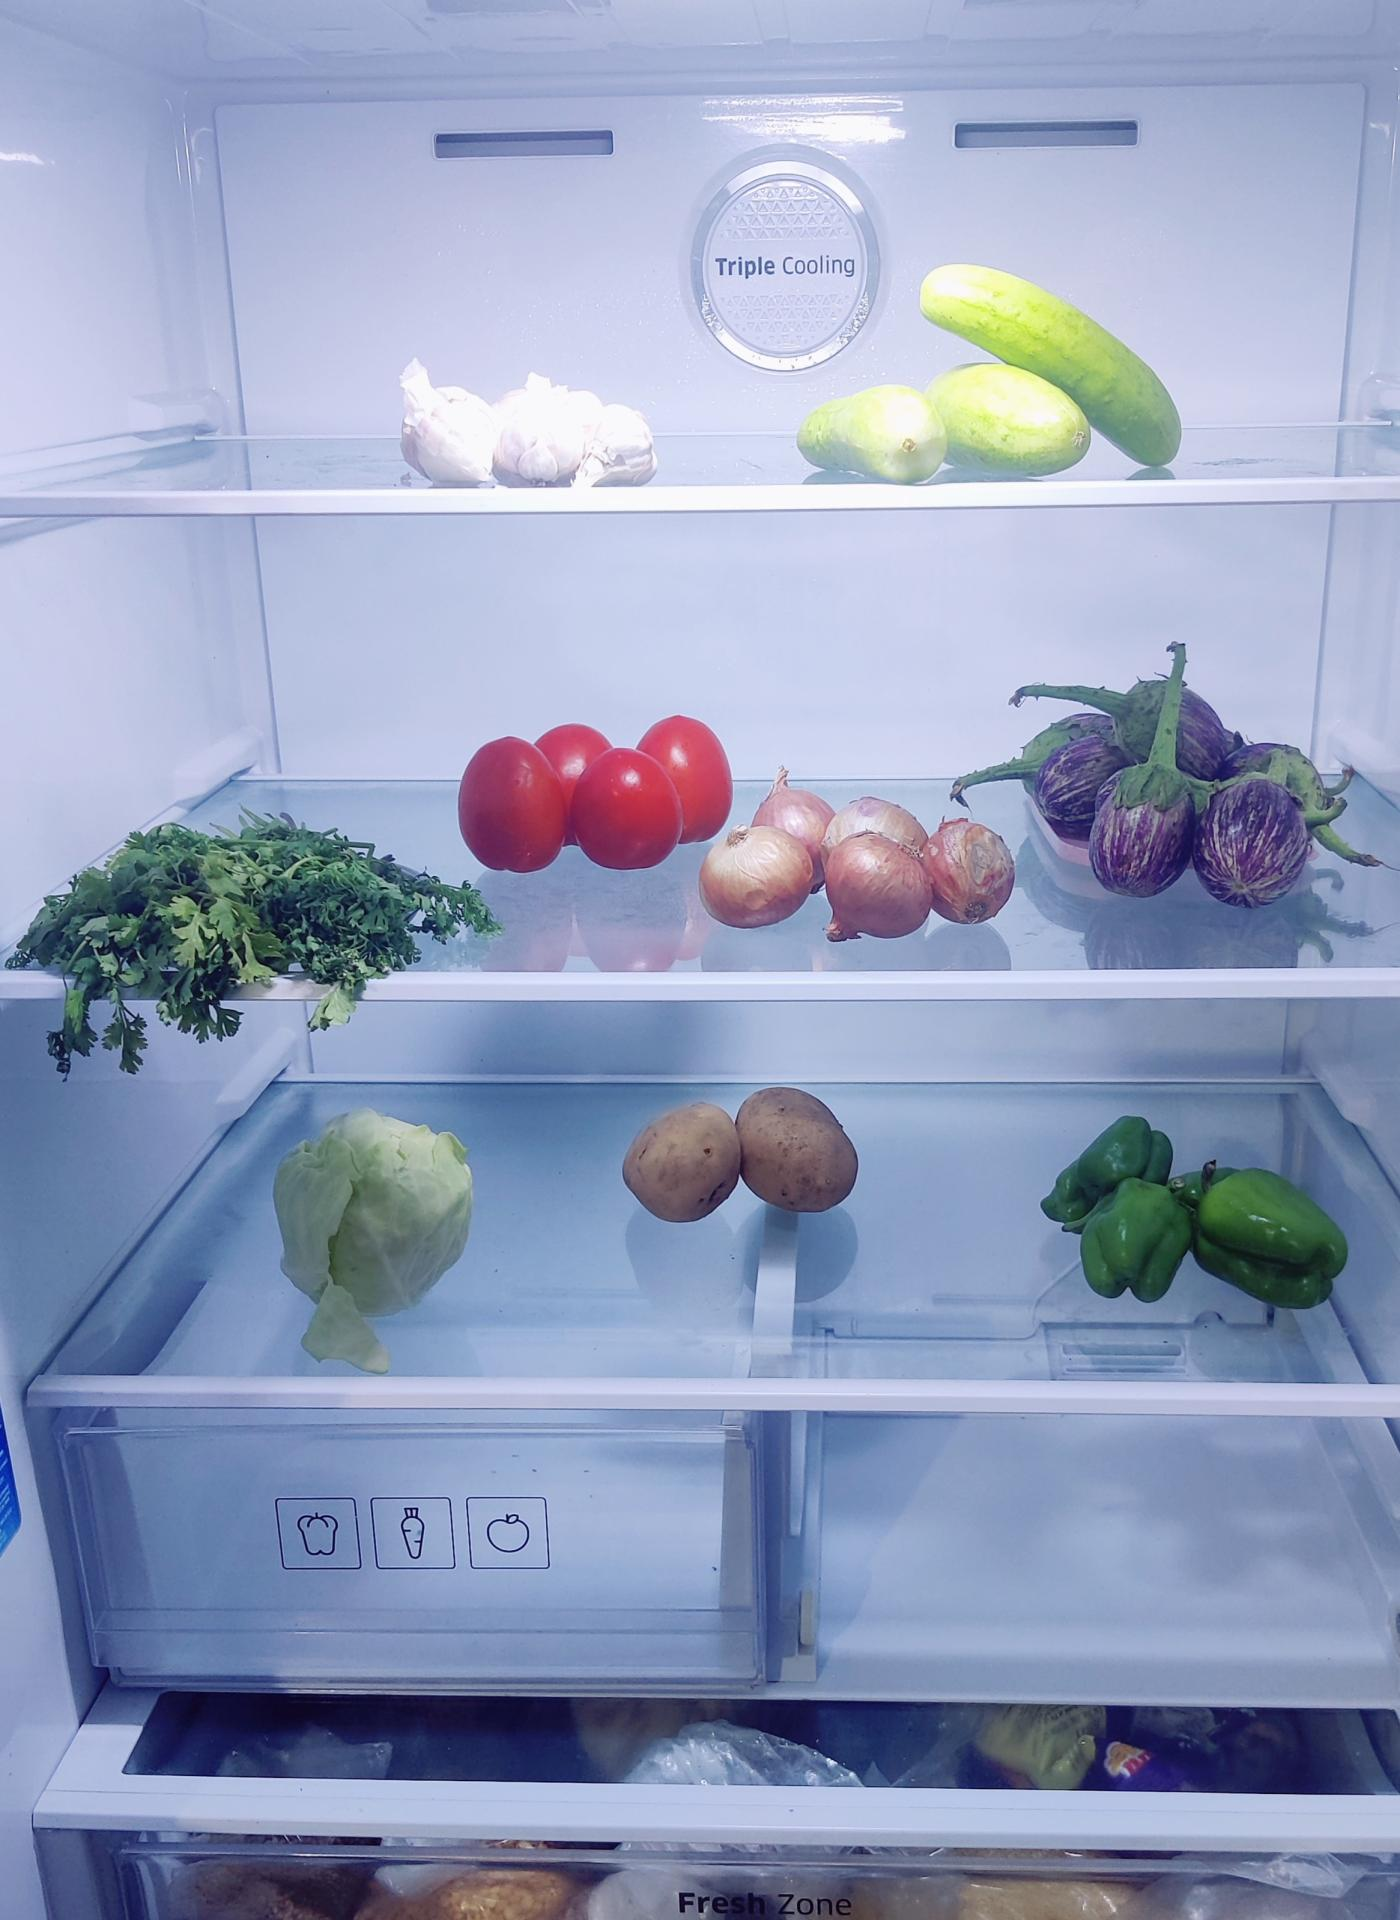brinjal: (1009, 656, 1336, 909)
cabbage: (274, 1105, 473, 1313)
capsicum: (1053, 1115, 1364, 1307)
coriander: (21, 815, 489, 1005)
cucumber: (804, 268, 1178, 487)
garlic: (400, 356, 663, 489)
onion: (699, 774, 1017, 936)
potato: (623, 1078, 865, 1216)
tomato: (459, 708, 735, 868)
